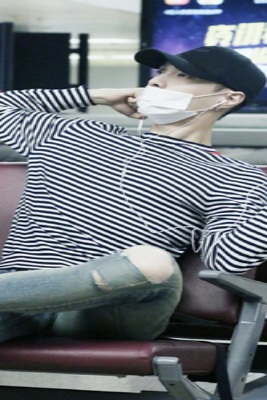mask_weared_incorrect: (137, 67, 219, 121)
